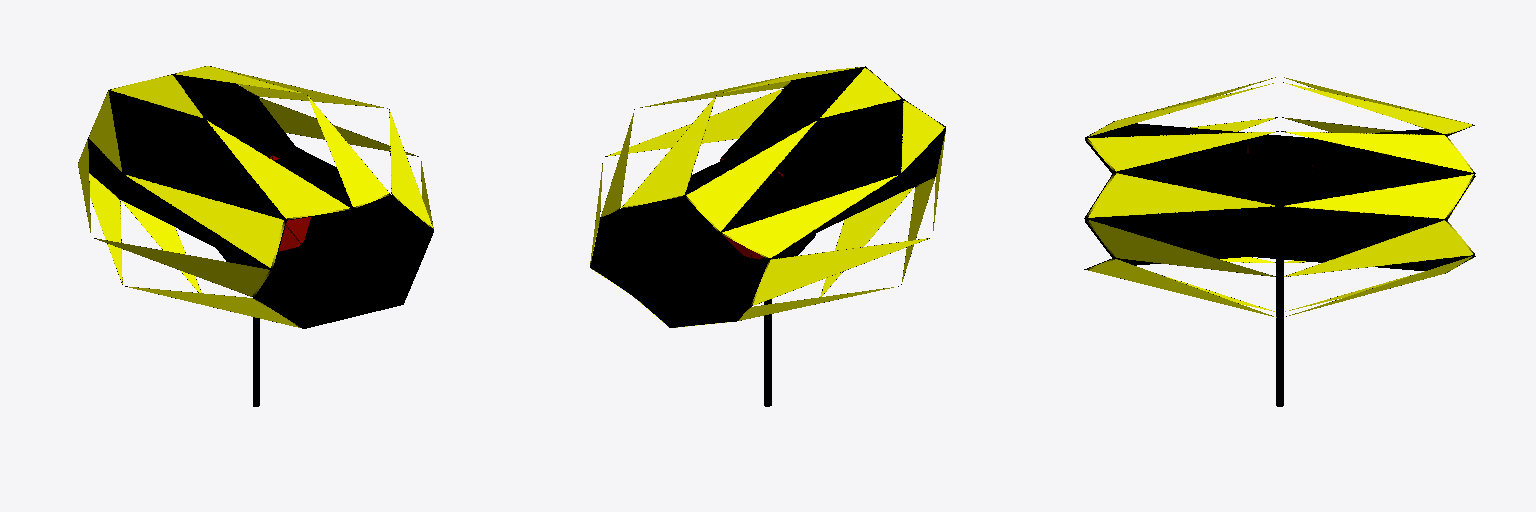
3 renders of one model, left to right at view 1: azimuth 30°, elevation 25°; view 2: azimuth 150°, elevation 25°; view 3: azimuth 270°, elevation 25°, orthographic.
Parts seen in each view (by area): view 1: 円柱; view 2: 円柱; view 3: 円柱.
Boxes of the visible parts, box(x1,y1,x2,y2) form: 円柱: box(78, 66, 433, 406); 円柱: box(590, 66, 945, 406); 円柱: box(1084, 77, 1475, 406).
Bounding box in the file's own units: 9.94 × 8.62 × 10.24.
Materials: 2 (1 with a texture image).